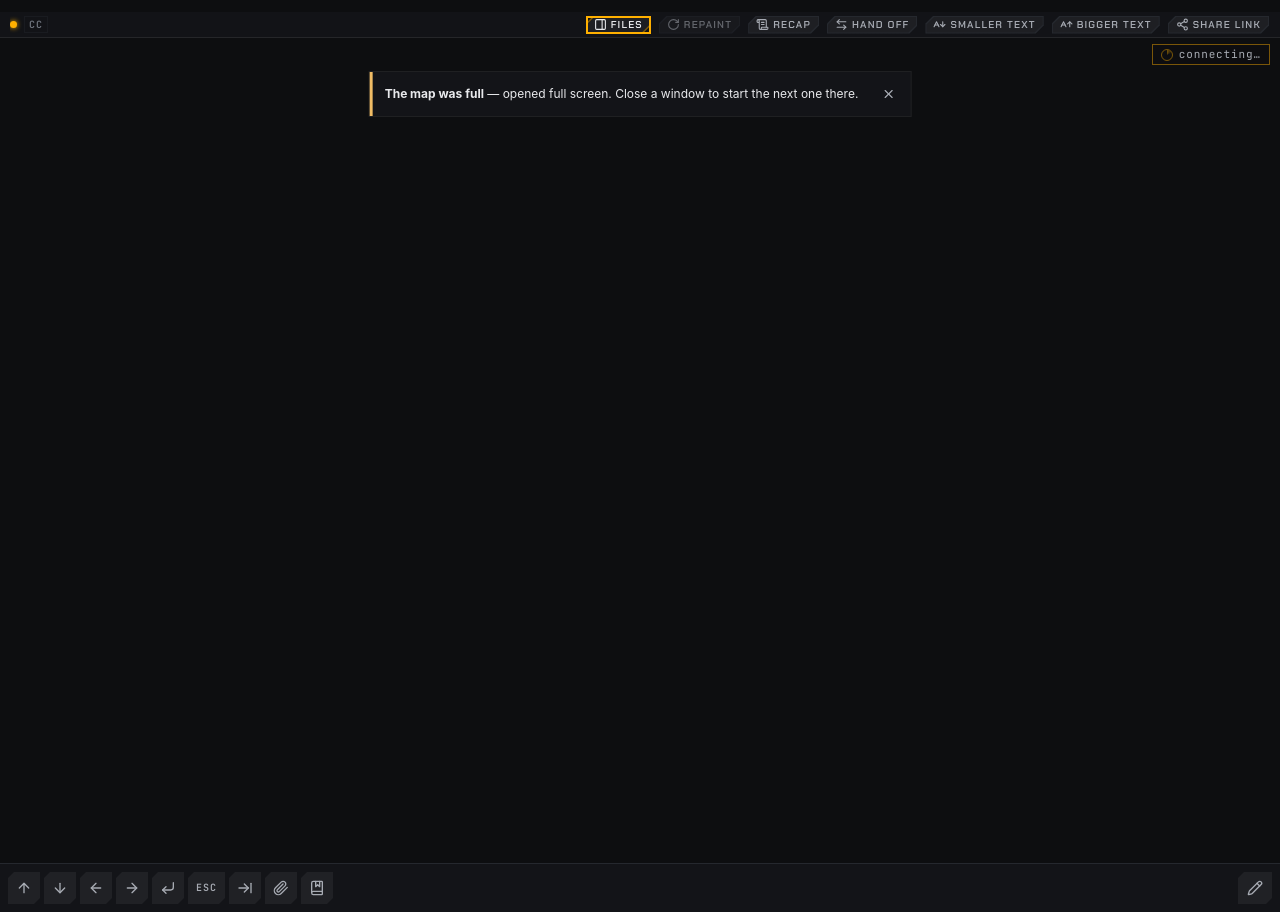
an arrival handed back by a full map says why it is full screen, until dismissed
Expected: the message with test id "map-full-notice" shows "The map was full — opened full screen.", top-left (370, 72), bottom-right (910, 116)
Step 1. Click the button named "Dismiss" → click(888, 94), box top-left (866, 72), bottom-right (910, 116)
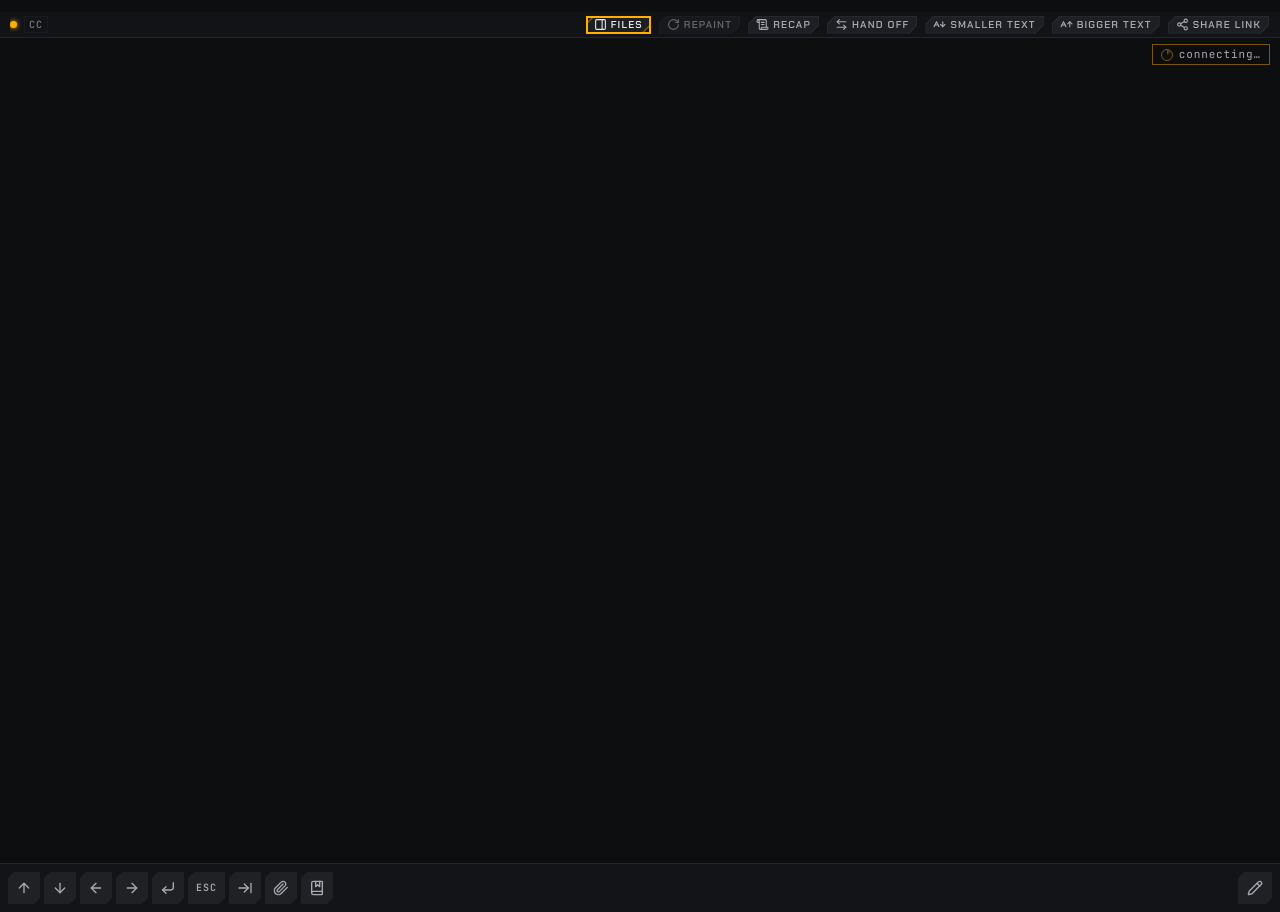
Expected: the message with test id "map-full-notice" is gone
